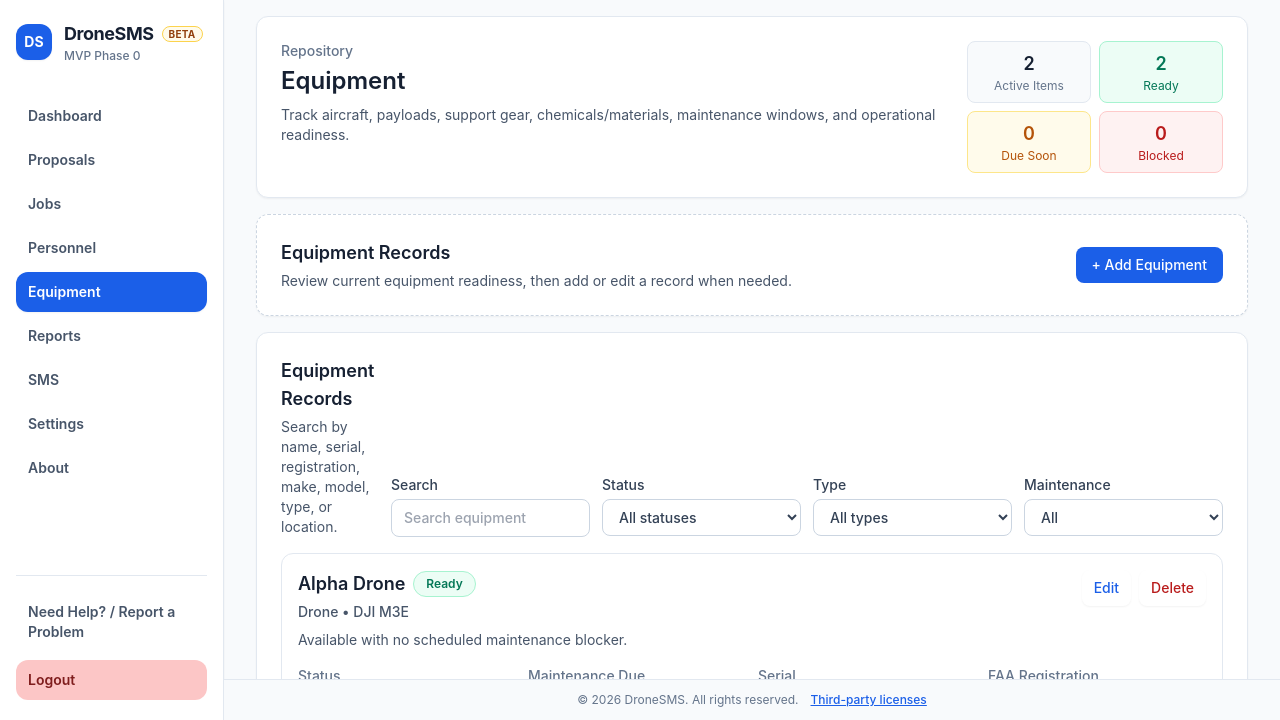
Equipment inline editing › shows the database save error in the add form
This screenshot has width=1280, height=720.
Check: the heading "Alpha Drone" is shown, box x1=298 y1=570 x2=405 y2=598
Click the button "+ Add Equipment". click: (1149, 265)
box: x1=1076 y1=247 x2=1223 y2=283
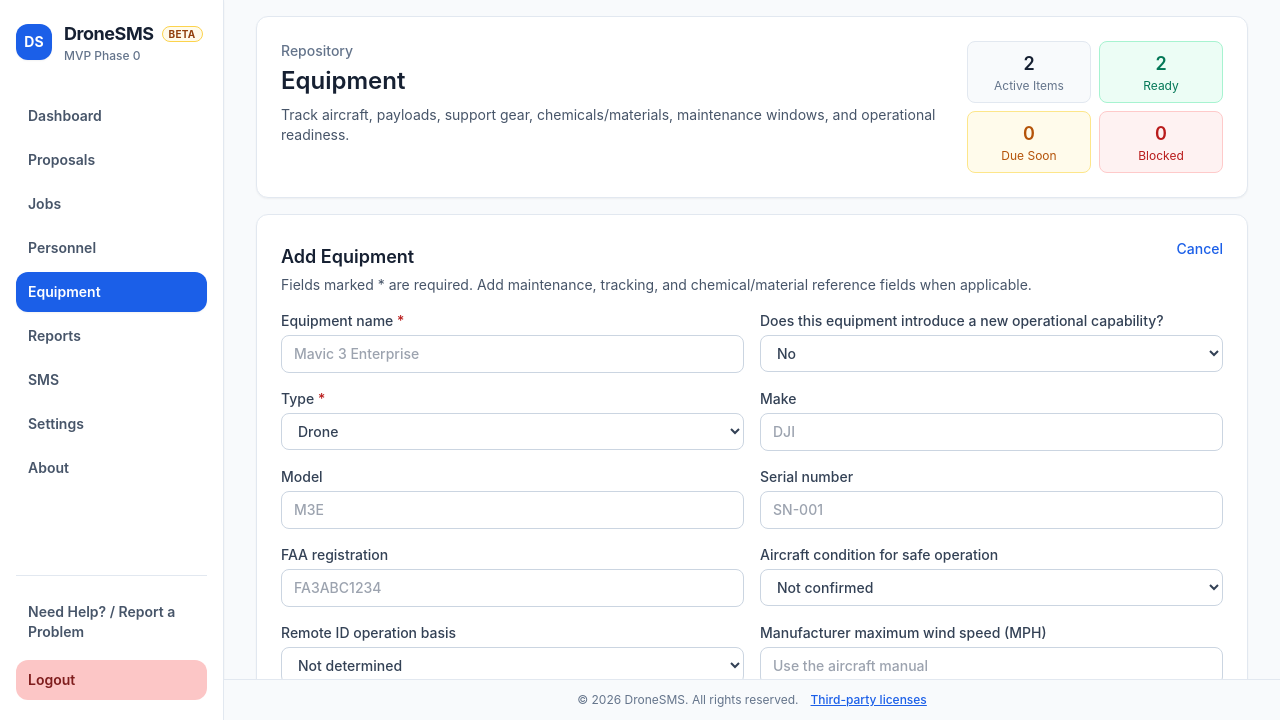
Type "New drone" into the field labelled "Equipment name". click: (512, 354)
box: x1=281 y1=335 x2=744 y2=373
(page scrolled)
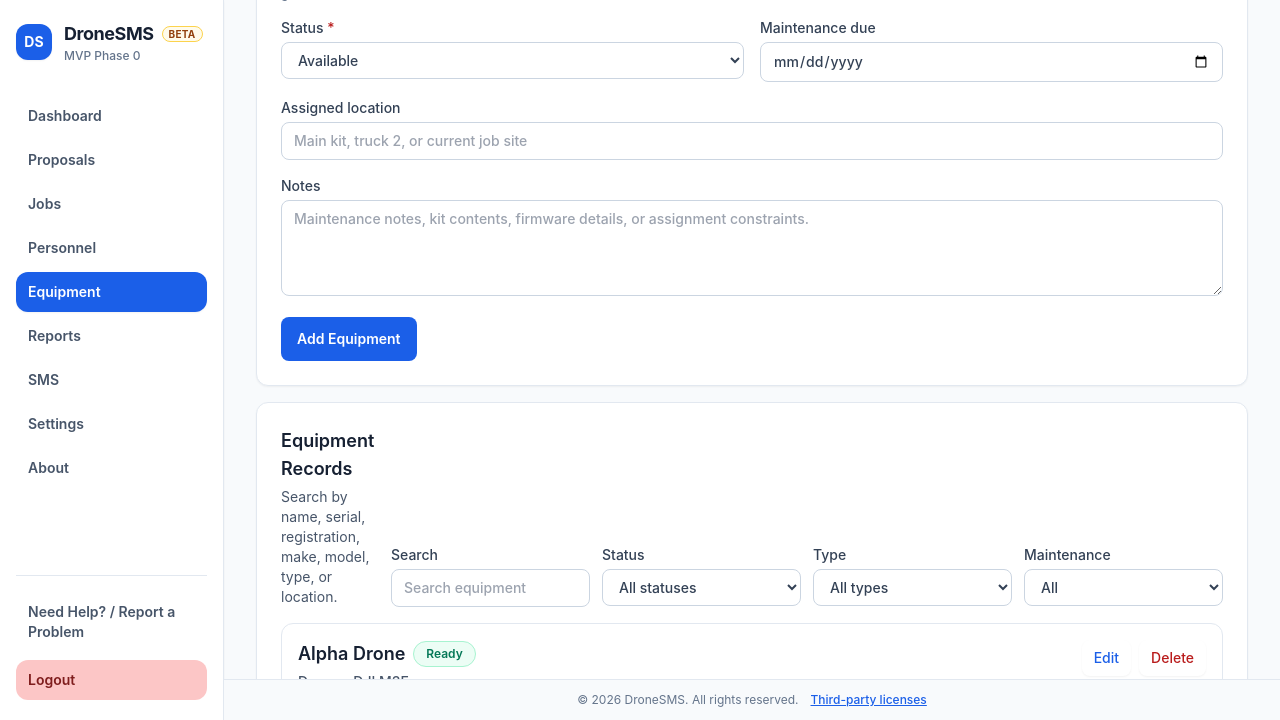
Click the button "Add Equipment". click: (349, 339)
box: x1=281 y1=317 x2=417 y2=361
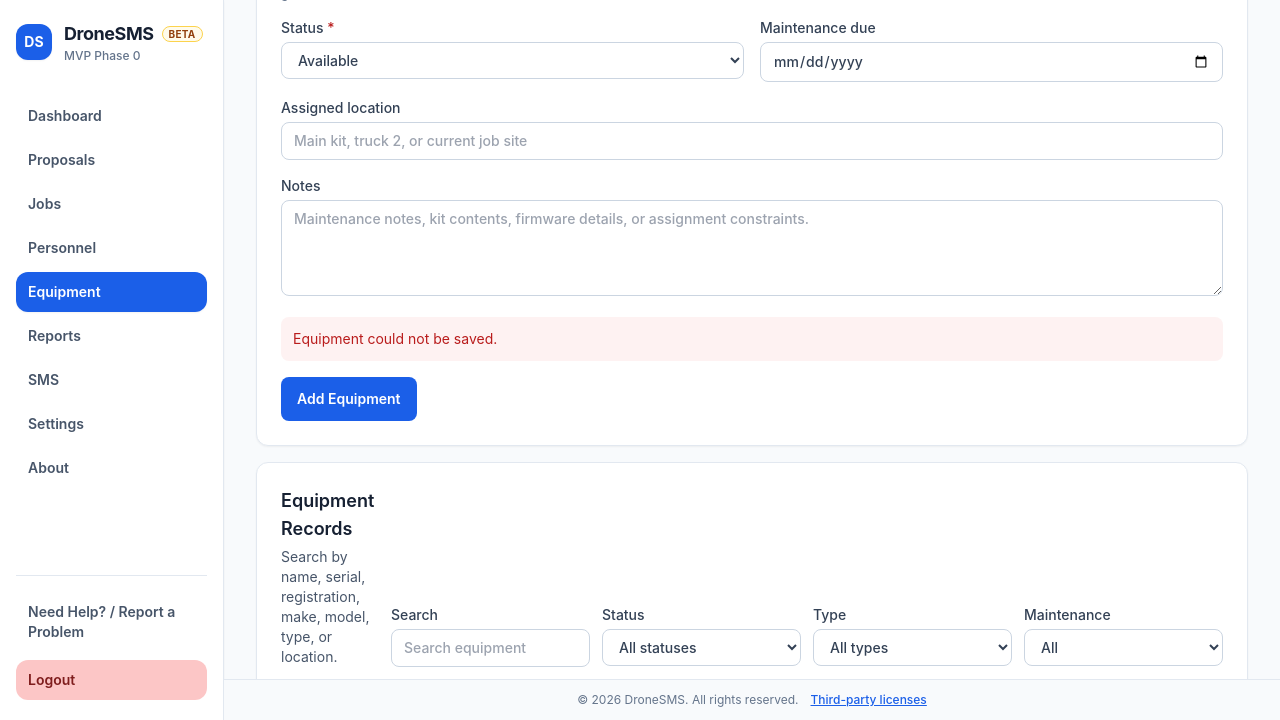
Check: the text "Equipment could not be saved." is shown, box x1=281 y1=317 x2=1223 y2=361
